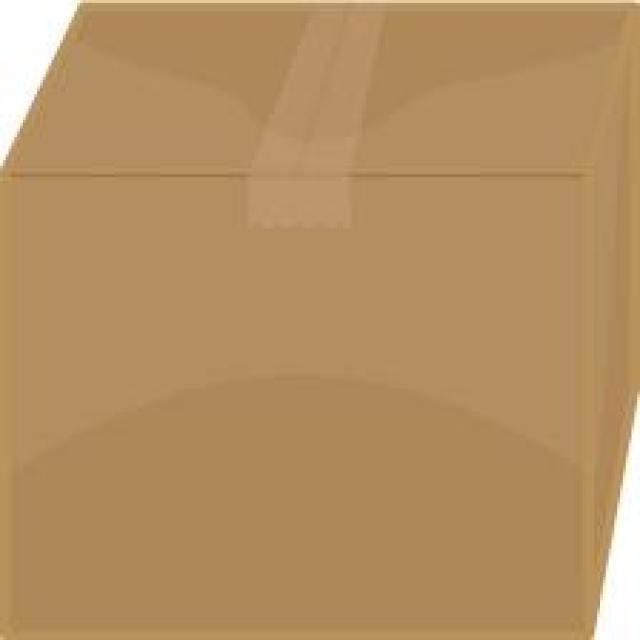box: (89, 155, 621, 515)
